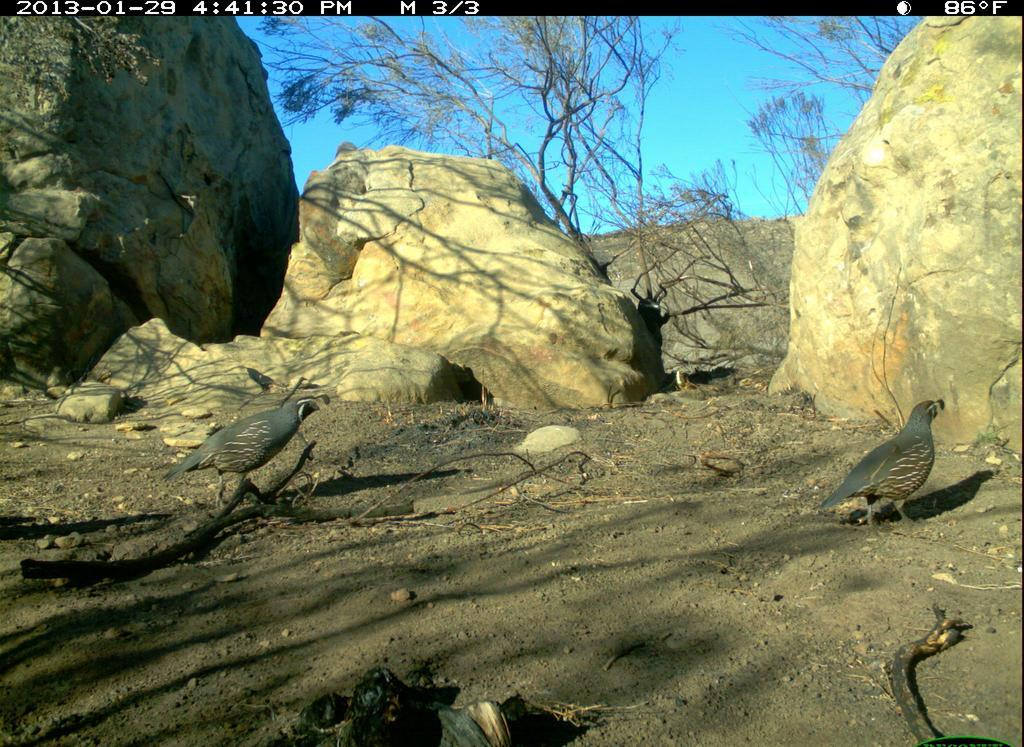bird: (150, 391, 347, 521), (807, 396, 962, 546)
